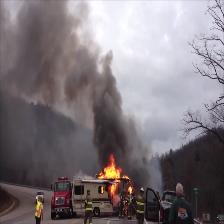fire: (101, 159, 119, 180)
smoke: (20, 24, 84, 89), (94, 94, 121, 158)
